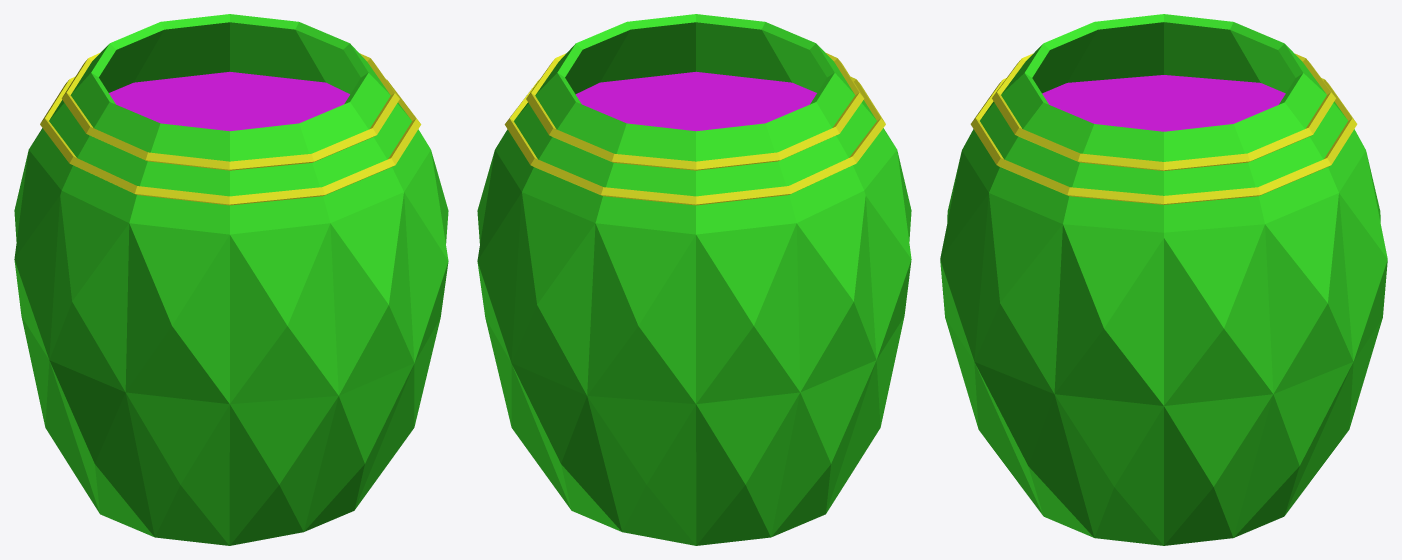
The model's file is Vase_02.fbx.
The picture shows the model from 3 angles, left to right: view 1: azimuth 30°, elevation 25°; view 2: azimuth 150°, elevation 25°; view 3: azimuth 270°, elevation 25°; orthographic projection.
Parts seen in each view (by area): view 1: Vase_02; view 2: Vase_02; view 3: Vase_02.
Boxes of the visible parts, x1,y1,x2,y2 form: Vase_02: (14, 14, 448, 545); Vase_02: (477, 14, 911, 545); Vase_02: (940, 14, 1387, 545).
Size of the model in its own units: 58.4 by 60.96 by 60.03.
